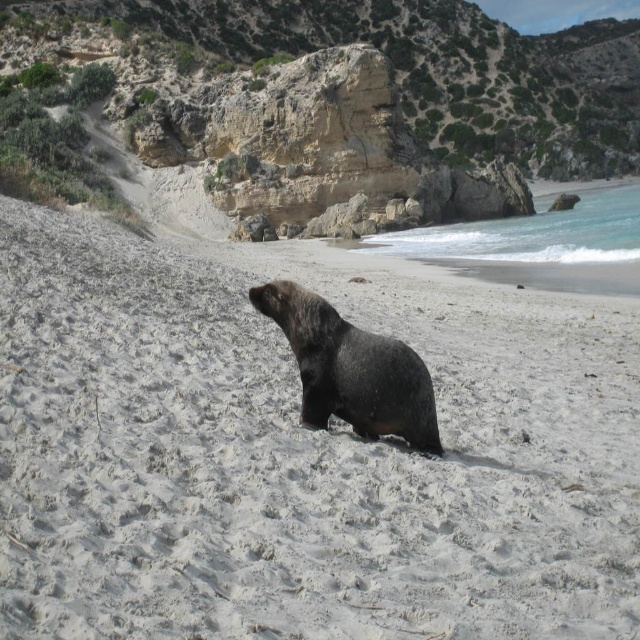Harbor seal: (246, 268, 448, 459)
